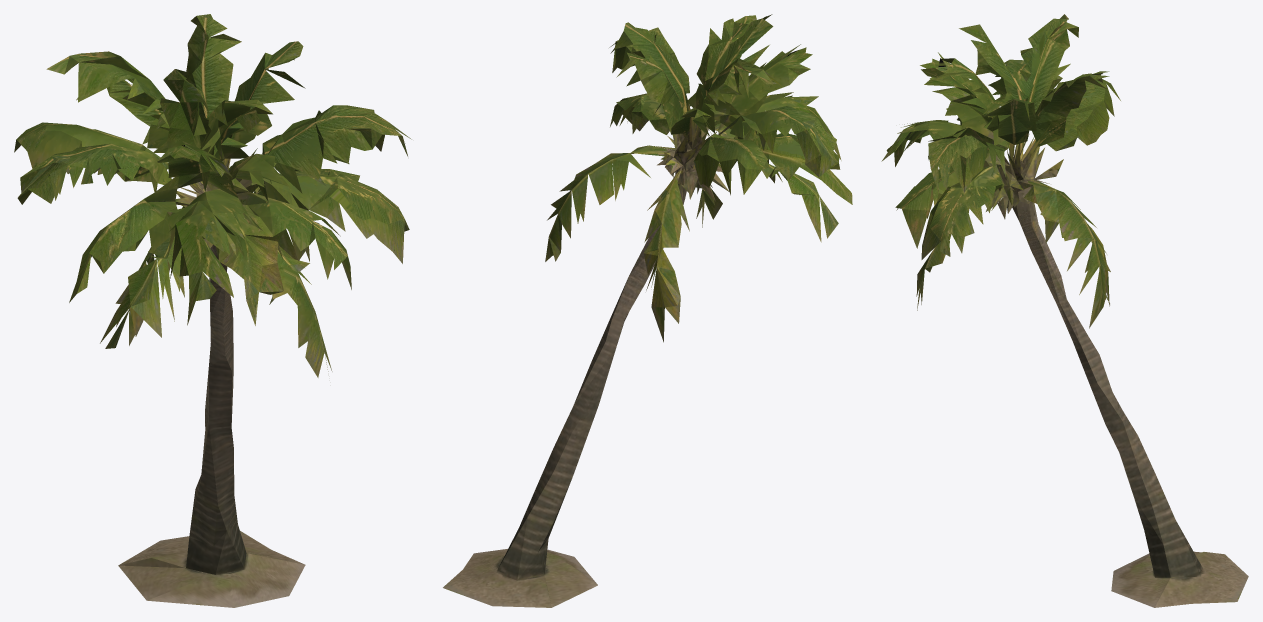
Rendered from palm tree.glb.
The picture shows the model from 3 angles, left to right: view 1: azimuth 30°, elevation 25°; view 2: azimuth 150°, elevation 25°; view 3: azimuth 270°, elevation 25°; orthographic projection. The views are drawn at different scales.
Parts seen in each view (by area): view 1: output_unwrapped; view 2: output_unwrapped; view 3: output_unwrapped.
Boxes of the visible parts, left/top/right/bottom form: output_unwrapped: left=14, top=14, right=411, bottom=607; output_unwrapped: left=443, top=14, right=852, bottom=607; output_unwrapped: left=881, top=14, right=1248, bottom=607.
Size of the model in its own units: 1.13 by 1.88 by 1.27.
1 material, 1 textured.
